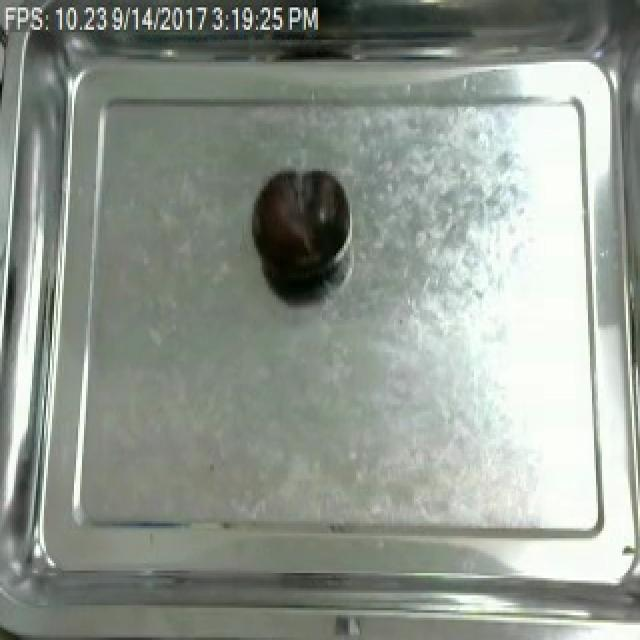Fruit: (248, 164, 352, 290)
